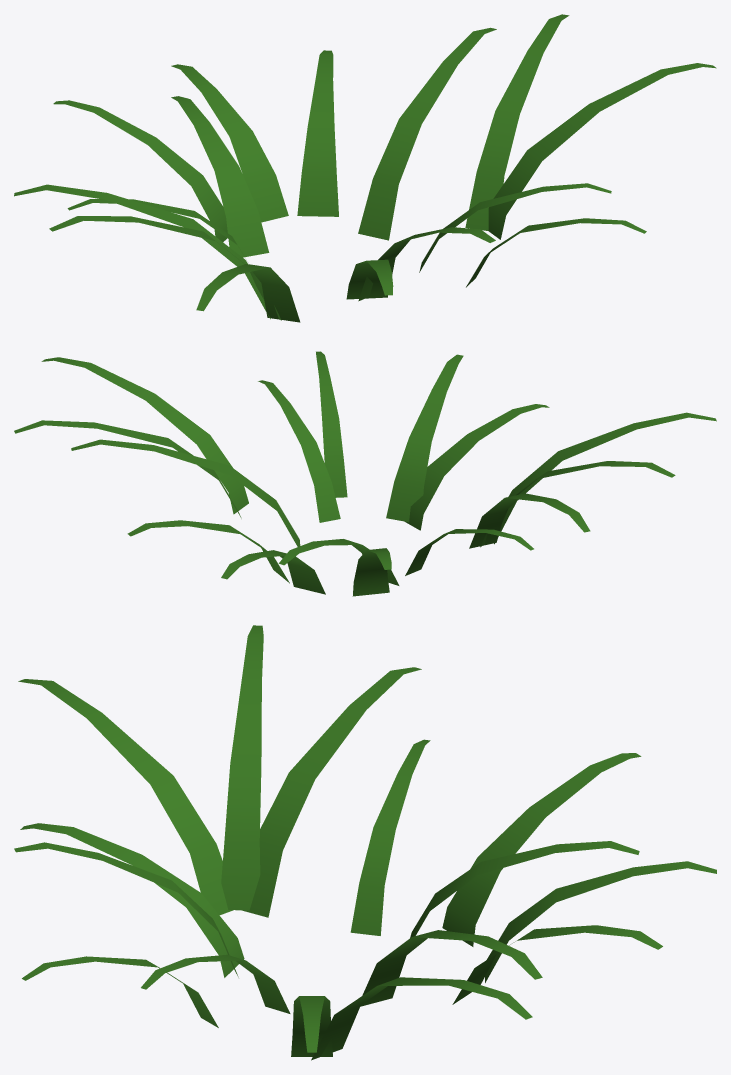
The model's file is model_mato2_01.fbx.
The picture shows the model from 3 angles, top to bottom: view 1: azimuth 30°, elevation 25°; view 2: azimuth 150°, elevation 25°; view 3: azimuth 270°, elevation 25°; orthographic projection. The views are drawn at different scales.
Parts seen in each view (by area): view 1: Plane.006; view 2: Plane.006; view 3: Plane.006.
Part boxes in pixels (x1,y1,x2,y2): Plane.006: (14, 14, 716, 322); Plane.006: (14, 351, 716, 596); Plane.006: (14, 625, 716, 1060).
Size of the model in its own units: 3.06 by 0.6029 by 2.26.
